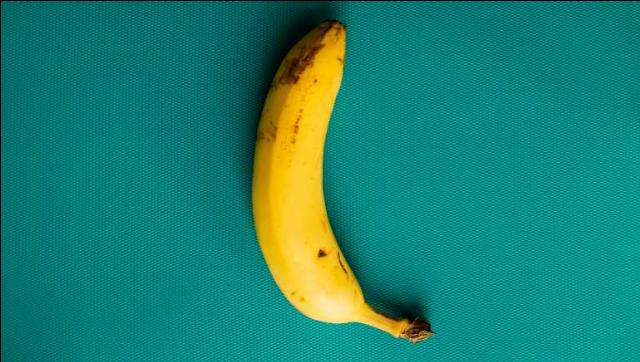Bananas: (250, 18, 432, 340)
